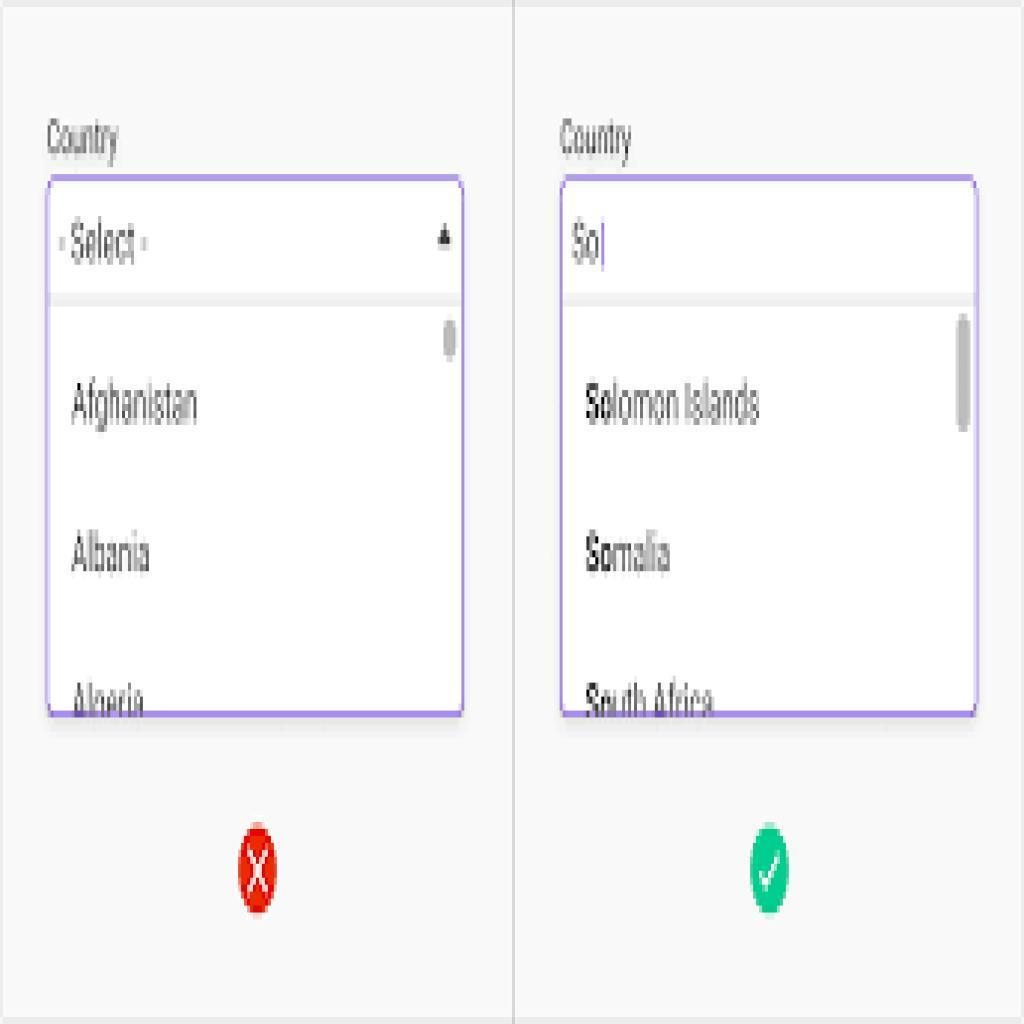checkbox: (235, 825, 279, 917), (750, 822, 790, 914)
dropdown: (49, 176, 466, 307)
input: (564, 179, 975, 300)
label: (556, 115, 640, 165), (42, 113, 124, 164)
